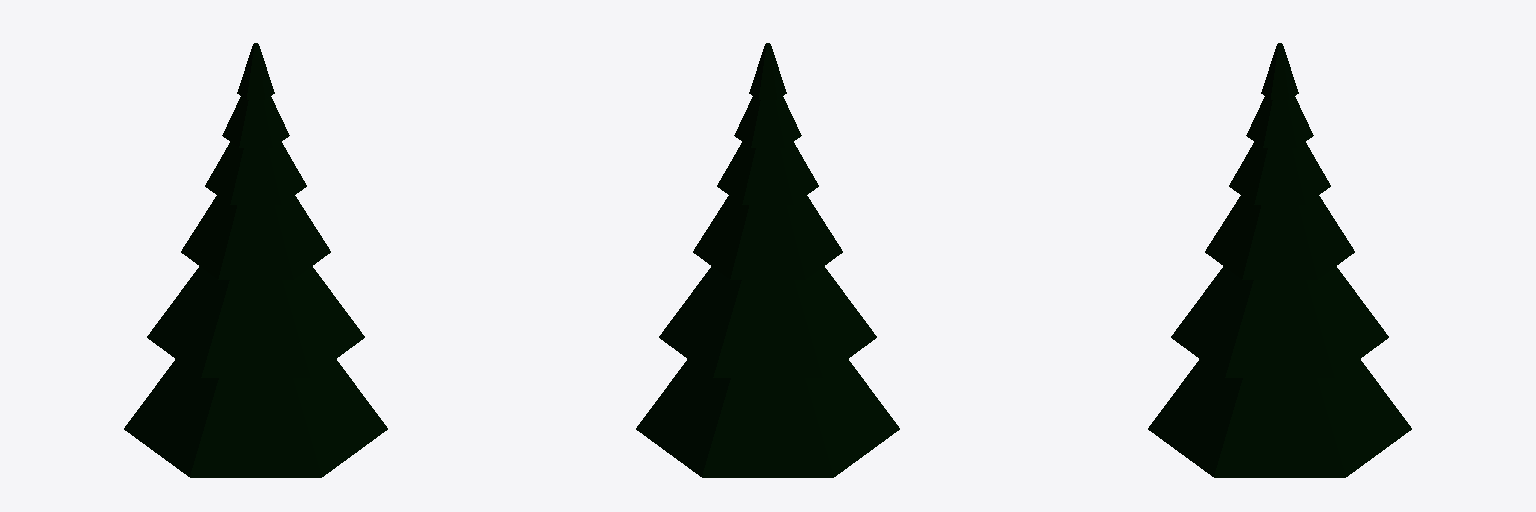
The model's file is tree.obj.
The picture shows the model from 3 angles: view 1: azimuth 30°, elevation 25°; view 2: azimuth 150°, elevation 25°; view 3: azimuth 270°, elevation 25°; orthographic projection.
Parts seen in each view (by area): view 1: Tree_Cylinder.002; view 2: Tree_Cylinder.002; view 3: Tree_Cylinder.002.
Boxes of the visible parts, x1=… form: Tree_Cylinder.002: x1=124, y1=43, x2=387, y2=477; Tree_Cylinder.002: x1=636, y1=43, x2=899, y2=477; Tree_Cylinder.002: x1=1148, y1=43, x2=1411, y2=477.
Size of the model in its own units: 3.7 by 7.55 by 4.28.